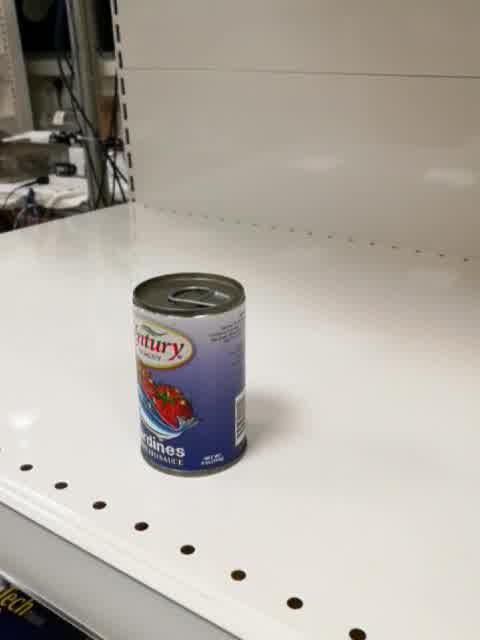sardine: (132, 271, 246, 479)
